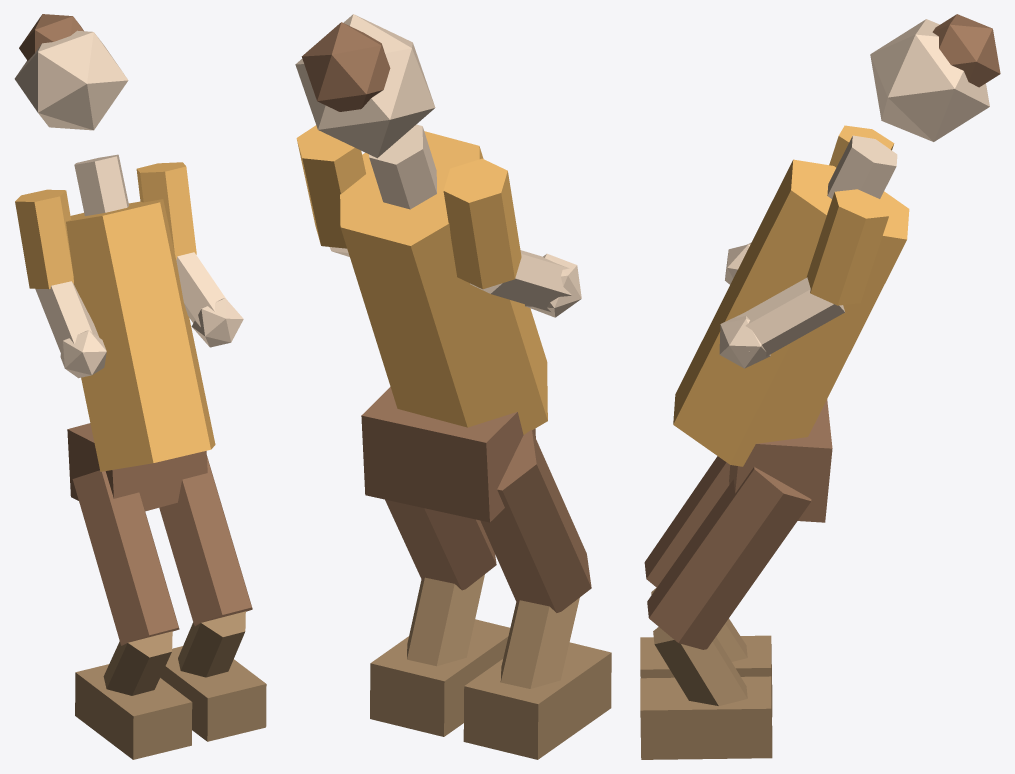
File: pose_hit_light_05.glb
3 renders of one model, left to right at view 1: azimuth 30°, elevation 25°; view 2: azimuth 150°, elevation 25°; view 3: azimuth 270°, elevation 25°, orthographic. The views are drawn at different scales.
Parts seen in each view (by area): view 1: pose; view 2: pose; view 3: pose.
Part boxes in pixels (x1,y1,x2,y2): pose: (14,14,266,759); pose: (295,14,611,759); pose: (640,14,1000,759).
Size of the model in its own units: 0.412 by 1.42 by 0.66.
